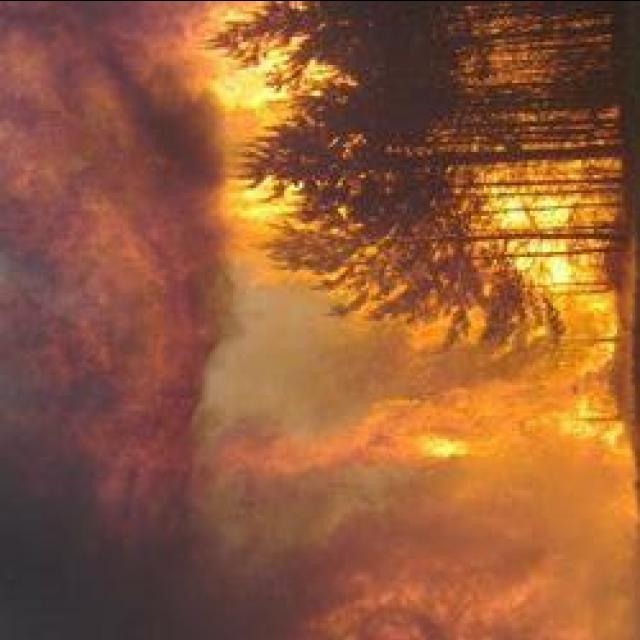fire: (217, 58, 277, 114), (540, 254, 572, 284)
smoke: (9, 0, 217, 276), (8, 448, 272, 626), (282, 511, 636, 639), (198, 280, 374, 446), (480, 429, 638, 528), (297, 449, 455, 527), (368, 342, 536, 408)
